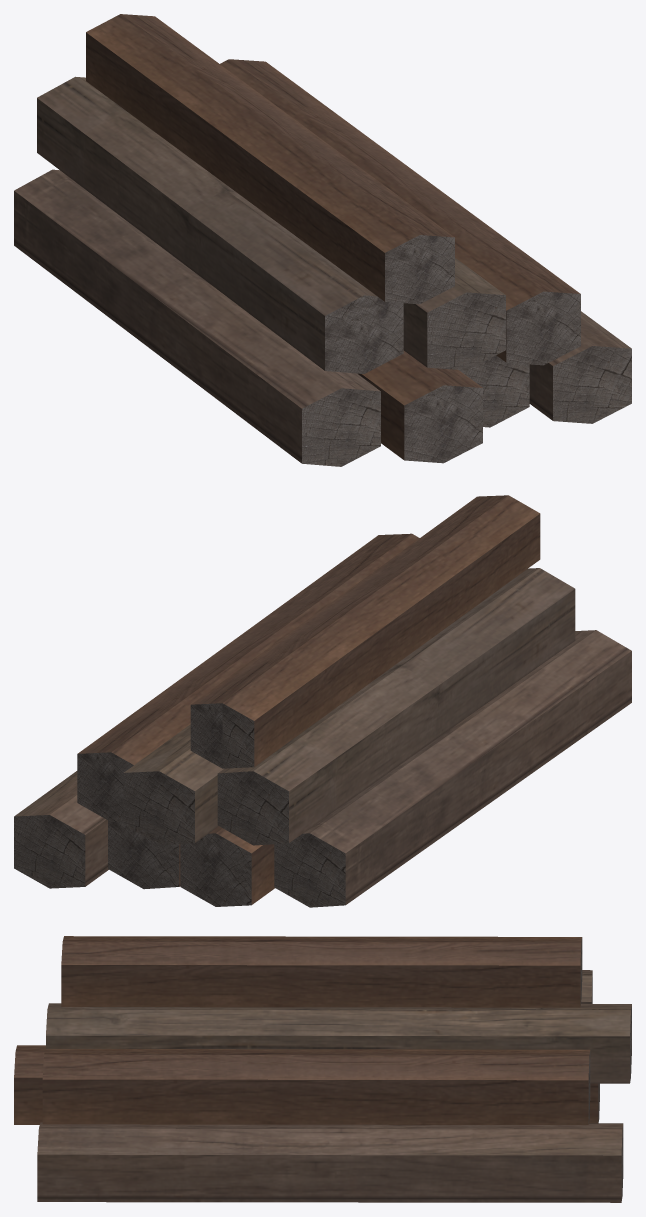
The model's file is jov_house01prop_wood3.fbx.
The picture shows the model from 3 angles, top to bottom: view 1: azimuth 30°, elevation 25°; view 2: azimuth 150°, elevation 25°; view 3: azimuth 270°, elevation 25°; orthographic projection. The views are drawn at different scales.
Parts seen in each view (by area): view 1: jov_house01prop_wood3; view 2: jov_house01prop_wood3; view 3: jov_house01prop_wood3.
Part boxes in pixels (x1,y1,x2,y2): jov_house01prop_wood3: (14, 14, 631, 466); jov_house01prop_wood3: (14, 495, 631, 907); jov_house01prop_wood3: (14, 936, 631, 1202).
Bounding box in the file's own units: 54.93 × 35.32 × 106.
